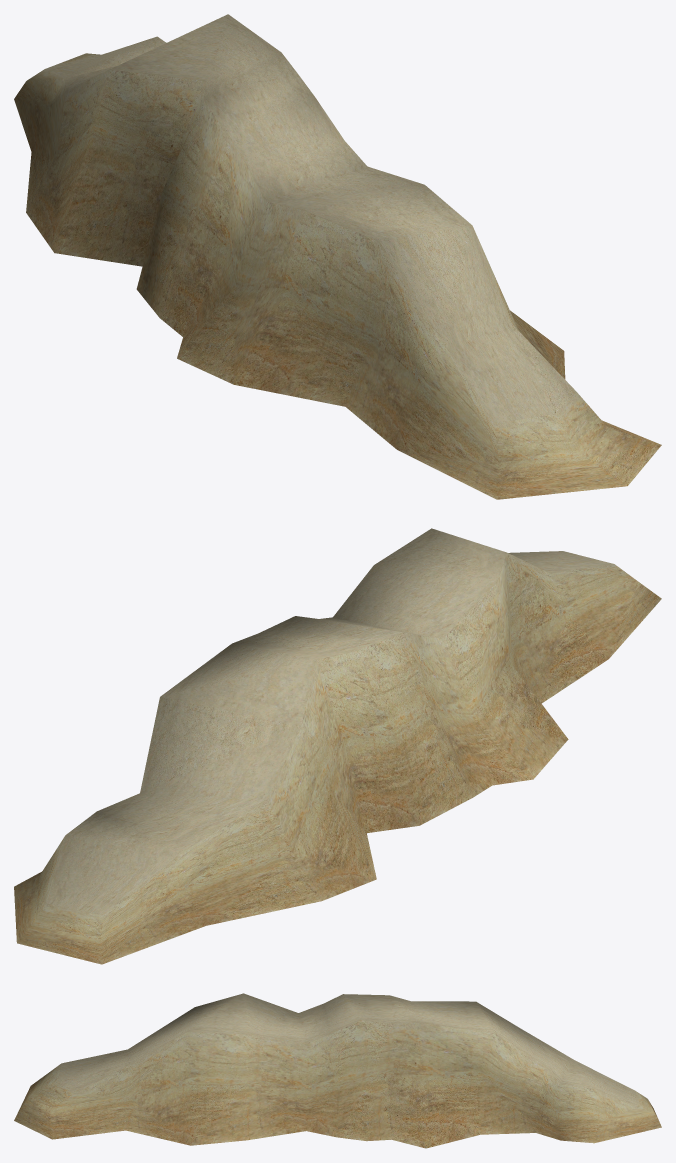
File: rock_beach_spine_l3.fbx
The picture shows the model from 3 angles, top to bottom: view 1: azimuth 30°, elevation 25°; view 2: azimuth 150°, elevation 25°; view 3: azimuth 270°, elevation 25°; orthographic projection. The views are drawn at different scales.
Visible parts, largest first — view 1: mesh_node; view 2: mesh_node; view 3: mesh_node.
Part boxes in pixels (bbox=[...]): mesh_node: bbox=[14, 14, 661, 499]; mesh_node: bbox=[14, 528, 661, 964]; mesh_node: bbox=[14, 993, 661, 1148].
Size of the model in its own units: 7.87 by 4.48 by 25.43.
